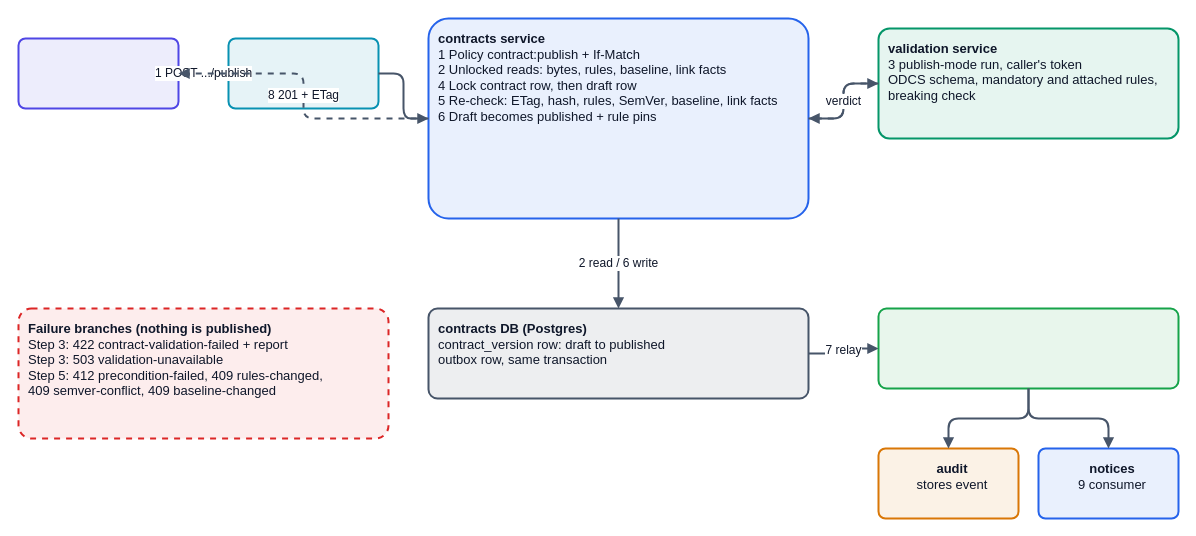
This 1196x536 diagram has some shape labels left out. The shapes that lost their labels are listed below. From the top down, each one's box as (x1, y1, x2, y2) in pixels, then its label:
(17, 37, 179, 109): Author or CI pipeline
(227, 37, 379, 109): Gateway Traefik
(877, 307, 1179, 389): NATS JetStream 7 stream AUDIT, audit.contracts.>
